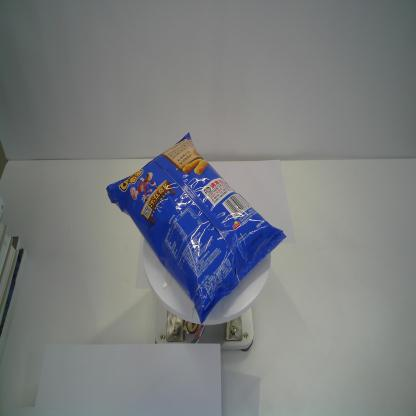Puffed Food: (105, 131, 287, 328)
